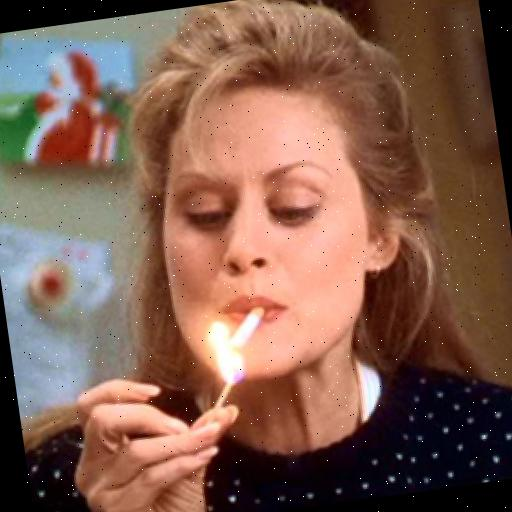terdeteksi merokok: (155, 166, 332, 404)
